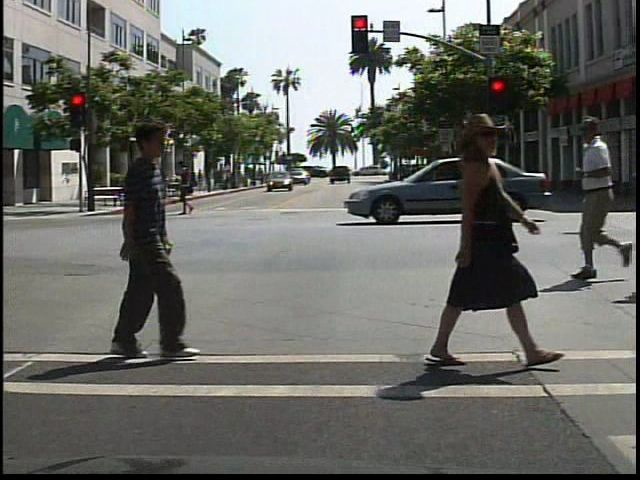person: (76, 122, 221, 361), (417, 113, 550, 368), (173, 157, 207, 218), (132, 164, 152, 209)
